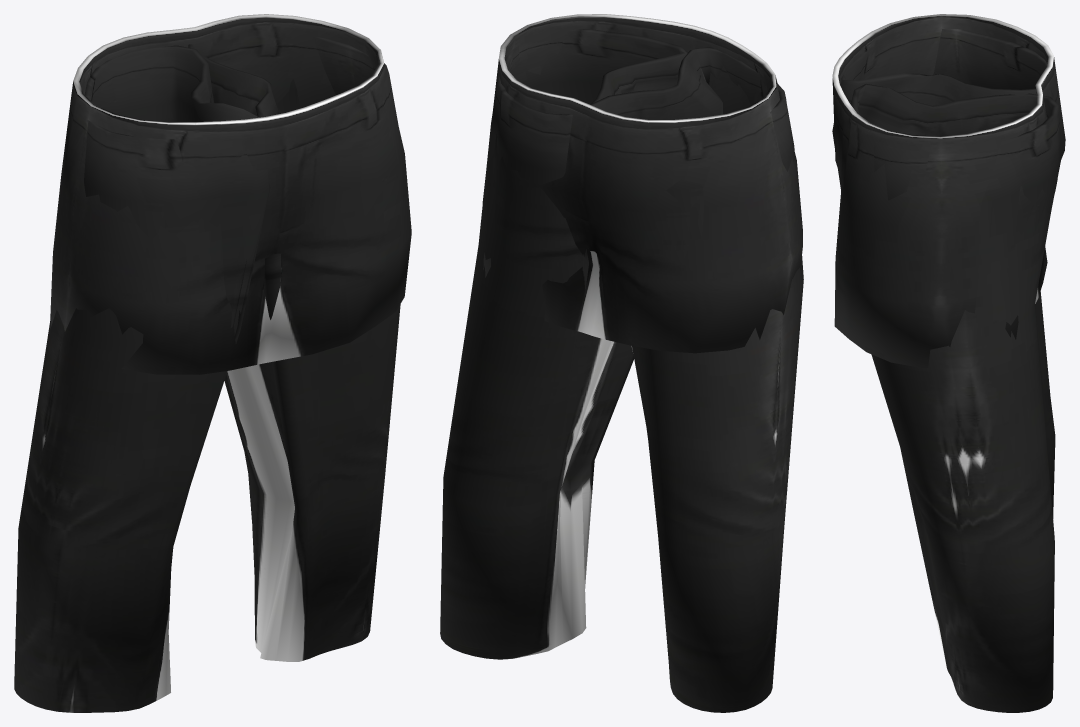
The model's file is 400e1277-75fc-4975-b9c9-b8a91765fffb.glb.
The picture shows the model from 3 angles, left to right: view 1: azimuth 30°, elevation 25°; view 2: azimuth 150°, elevation 25°; view 3: azimuth 270°, elevation 25°; orthographic projection. The views are drawn at different scales.
Visible parts, largest first — view 1: garment_leg0; view 2: garment_leg0; view 3: garment_leg0.
Boxes of the visible parts, box(x1,y1,x2,y2) form: garment_leg0: box(14, 14, 411, 712); garment_leg0: box(440, 14, 803, 712); garment_leg0: box(832, 14, 1065, 712).
Bounding box in the file's own units: 0.4492 × 0.7726 × 0.2885.
1 material, 1 textured.
